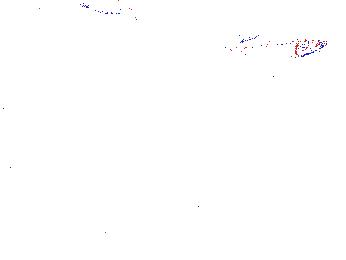X-ray fish: (242, 45, 304, 83)
glassfish: (193, 30, 330, 70)
